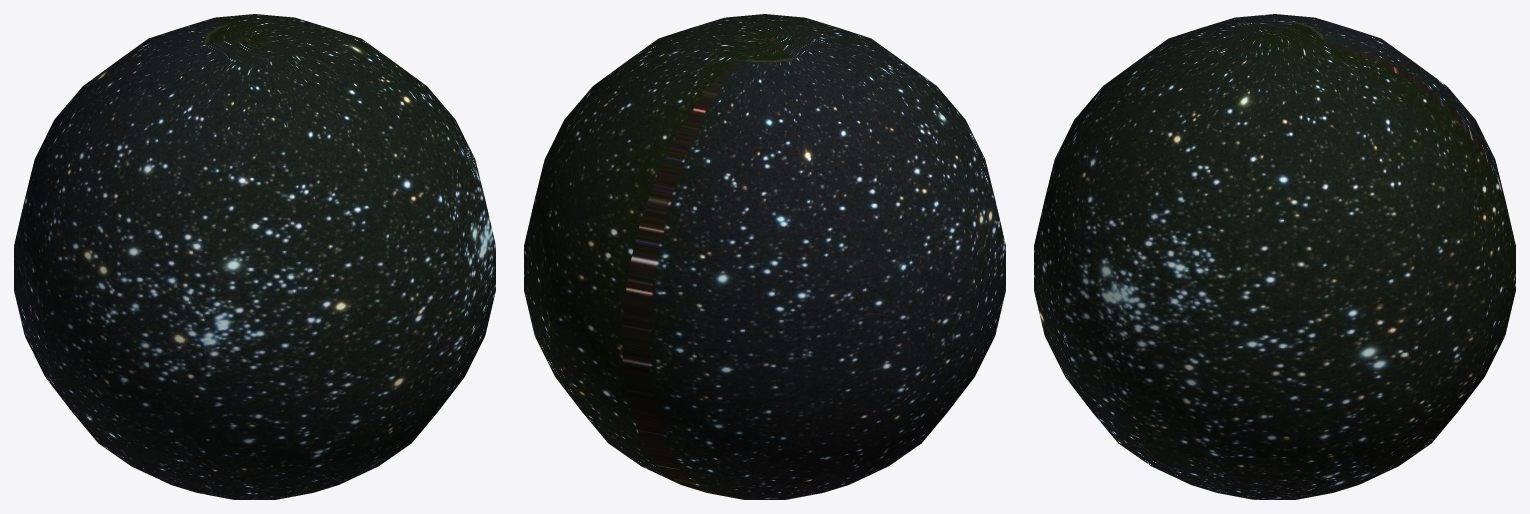
The model's file is yozora.fbx.
The picture shows the model from 3 angles, left to right: view 1: azimuth 30°, elevation 25°; view 2: azimuth 150°, elevation 25°; view 3: azimuth 270°, elevation 25°; orthographic projection.
Parts seen in each view (by area): view 1: sphere; view 2: sphere; view 3: sphere.
Boxes of the visible parts, box(x1,y1,x2,y2) form: sphere: box(14, 14, 495, 499); sphere: box(524, 14, 1005, 499); sphere: box(1034, 14, 1515, 499).
Size of the model in its own units: 7.87 by 8 by 7.91.
Materials: 1 (1 with a texture image).
